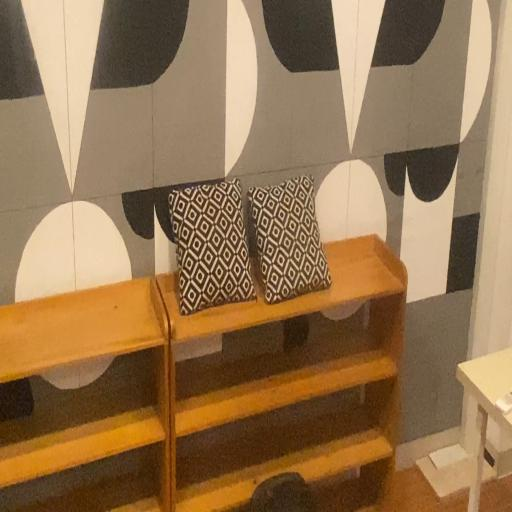bantal: (168, 173, 262, 319), (248, 169, 338, 310)
lemari: (152, 217, 409, 512), (0, 261, 170, 511)
meja: (452, 332, 512, 512)
remote AC: (491, 378, 512, 424)
tas ransel: (248, 468, 324, 512)
